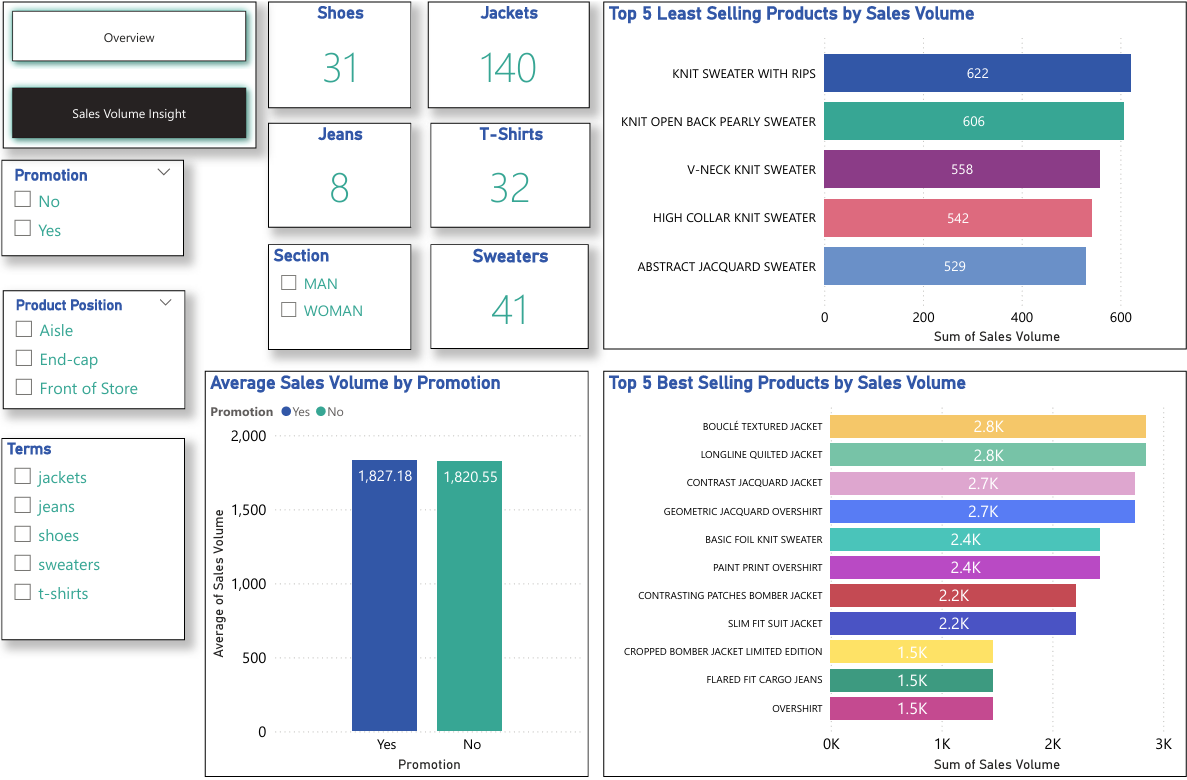

The page's visual inventory and layout, read from the dashboard file:
{"tool":"powerbi","page":{"name":"Sales Volume Insight","canvas":[1280,830],"ordinal":1},"visuals":[{"type":"barChart","title":"Top 5 Best Selling Products by Sales Volume","fields":{"Category":["zara.name"],"Y":["Sum(zara.Sales Volume)"],"Series":["zara.name"]},"box":[656.7,395.1,622.9,434.3],"z":0},{"type":"columnChart","title":"Average Sales Volume by Promotion","fields":{"Y":["Avg(zara.Sales Volume)"],"Category":["zara.Promotion"],"Series":["zara.Promotion"]},"box":[231.2,394.7,410.2,434.2],"z":1000},{"type":"card","title":"Jackets","fields":{"Values":["CountNonNull(zara.terms)"]},"box":[469.9,0,172.6,113.9],"z":2000},{"type":"card","title":"Sweaters","fields":{"Values":["CountNonNull(zara.terms)"]},"box":[471.6,259.8,169.1,112.1],"z":3000},{"type":"card","title":"T-Shirts","fields":{"Values":["CountNonNull(zara.terms)"]},"box":[471.6,129.9,170.9,112.1],"z":4000},{"type":"card","title":"Shoes","fields":{"Values":["CountNonNull(zara.terms)"]},"box":[299,0,153.1,113.9],"z":5000},{"type":"card","title":"Jeans ","fields":{"Values":["CountNonNull(zara.terms)"]},"box":[299,129.9,153.1,112.1],"z":6000},{"type":"barChart","title":"Top 5 Least Selling Products by Sales Volume","fields":{"Category":["zara.name"],"Y":["Sum(zara.Sales Volume)"],"Series":["zara.name"]},"box":[656.7,0,622.9,372],"z":7000},{"type":"pageNavigator","box":[16,0,270.5,156.6],"z":8000},{"type":"slicer","title":"Section","fields":{"Values":["zara.section"]},"box":[299,260,153.1,112.7],"z":9000},{"type":"slicer","fields":{"Values":["zara.Promotion"]},"box":[14.1,169.2,194.5,102.9],"z":10000},{"type":"slicer","fields":{"Values":["zara.Product Position"]},"box":[15.5,308.7,194.5,126.9],"z":11000},{"type":"slicer","title":"Terms","fields":{"Values":["zara.terms"]},"box":[14.1,466.6,195.9,215.7],"z":12000}]}

Visuals, with their boxes in screenshot pixels (x1, y1, x2, y2), scaled from the page's 1280x830 canvas onto the 1187x780 screenshot:
"Top 5 Best Selling Products by Sales Volume" barChart: bbox=[609, 371, 1186, 779]
"Average Sales Volume by Promotion" columnChart: bbox=[214, 371, 595, 779]
"Jackets" card: bbox=[436, 0, 596, 107]
"Sweaters" card: bbox=[437, 244, 594, 349]
"T-Shirts" card: bbox=[437, 122, 596, 227]
"Shoes" card: bbox=[277, 0, 419, 107]
"Jeans " card: bbox=[277, 122, 419, 227]
"Top 5 Least Selling Products by Sales Volume" barChart: bbox=[609, 0, 1186, 350]
pageNavigator: bbox=[15, 0, 266, 147]
"Section" slicer: bbox=[277, 244, 419, 350]
slicer - zara.Promotion: bbox=[13, 159, 193, 256]
slicer - zara.Product Position: bbox=[14, 290, 195, 409]
"Terms" slicer: bbox=[13, 438, 195, 641]
